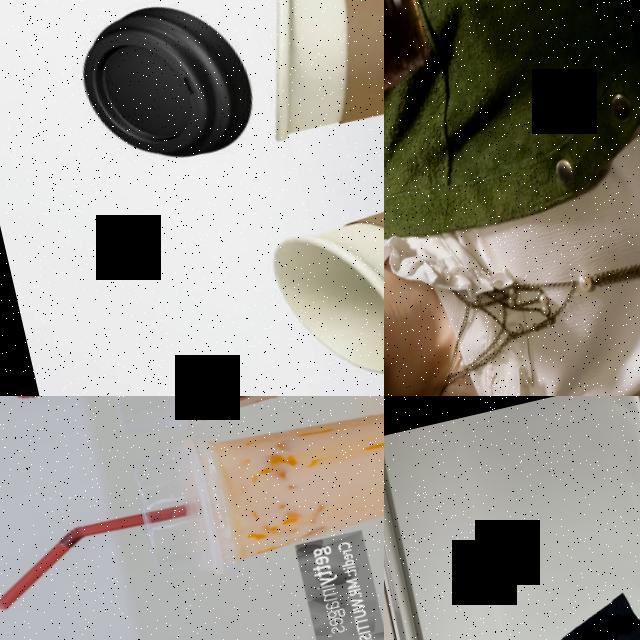cup: (125, 396, 384, 592), (259, 147, 384, 396), (242, 0, 384, 145), (384, 0, 450, 169)
